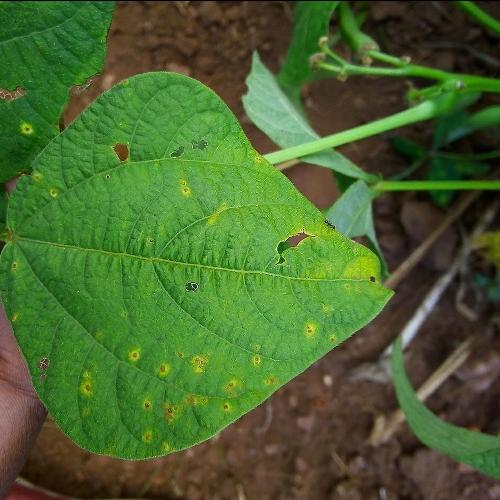mozaik: (98, 102, 340, 272)
